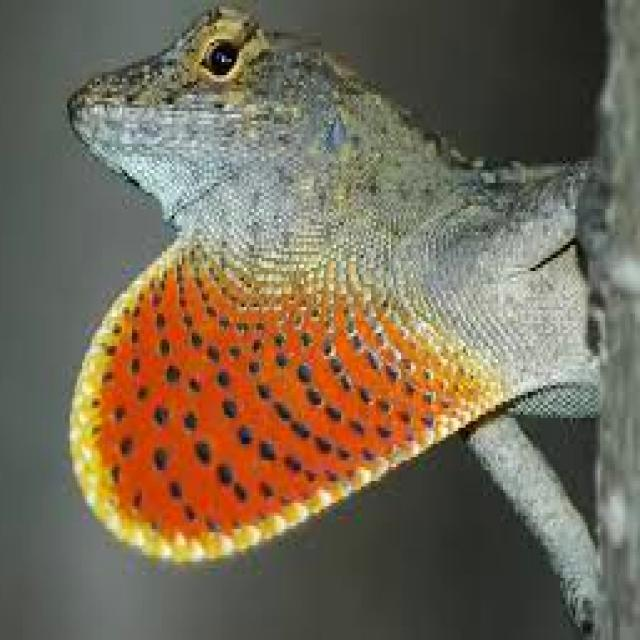lizard: (70, 7, 600, 620)
